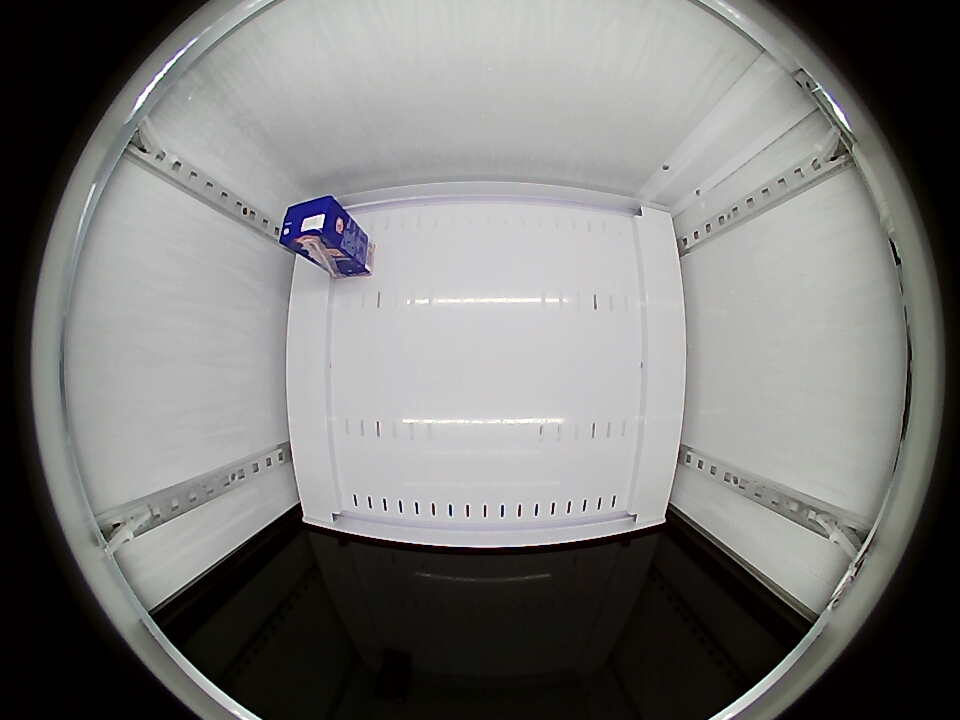bingqilinniunai: (279, 195, 348, 258)
